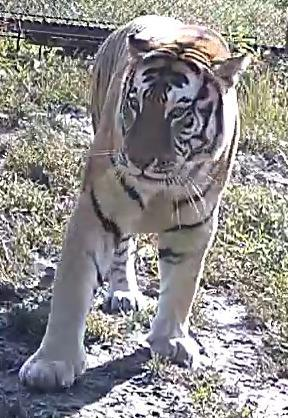tiger: (19, 15, 250, 389)
